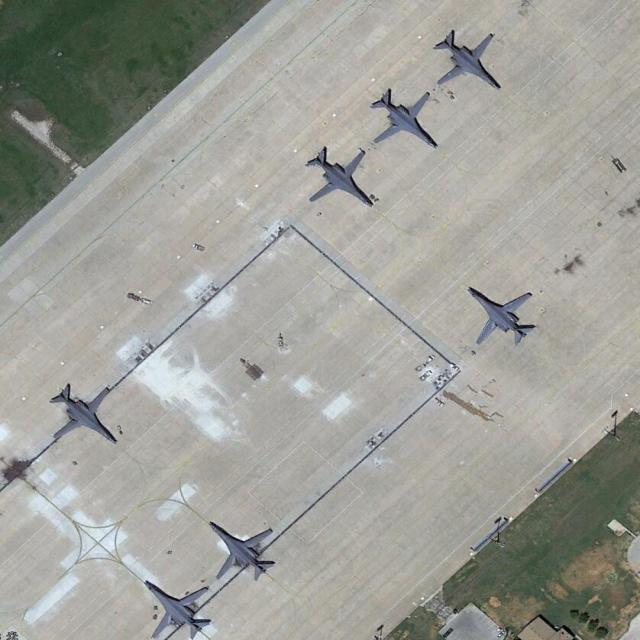fighter jet: (300, 143, 374, 210), (46, 387, 124, 446), (200, 518, 276, 577), (464, 284, 536, 343), (138, 582, 214, 637), (373, 87, 440, 146), (439, 30, 502, 87)
